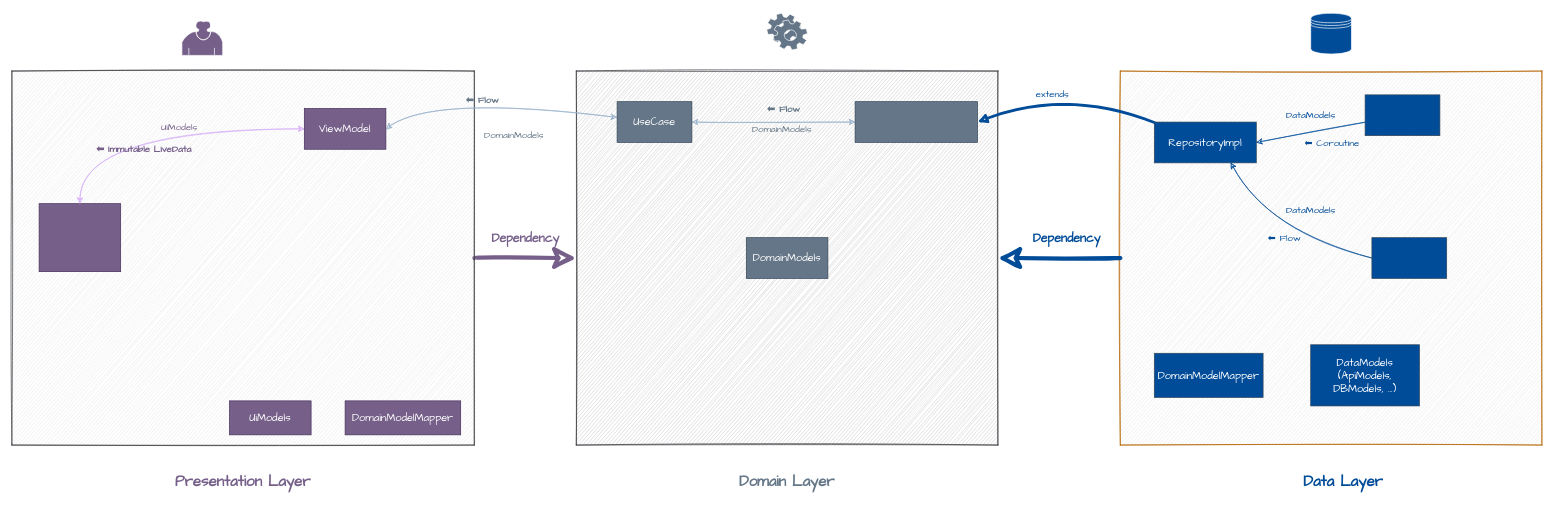
Image size: 1554x508. Some labels were removed from this diagram. The centre of each missing label's shape, as x and y in pixels:
"ApiServices" belongs at [1402,115].
"Compose, Activity, Fragment, ..." belongs at [79,237].
"DAOs" belongs at [1409,257].
"RepositoryInterface" belongs at [916,121].
